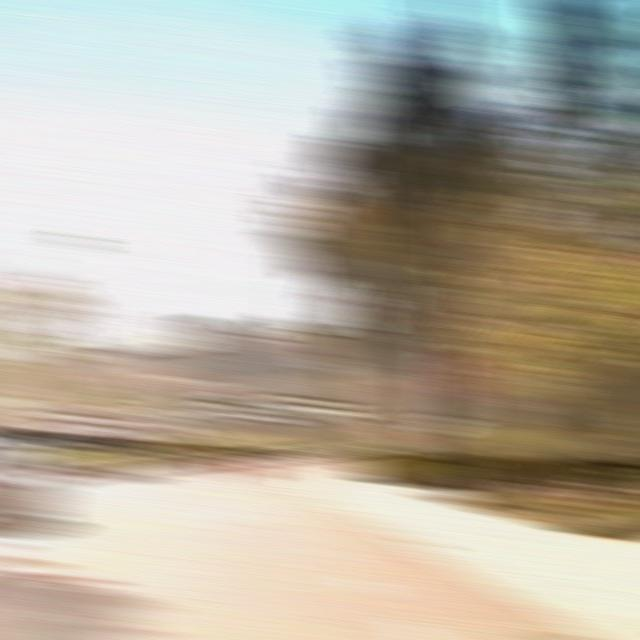stop_sign: (435, 347, 491, 397)
